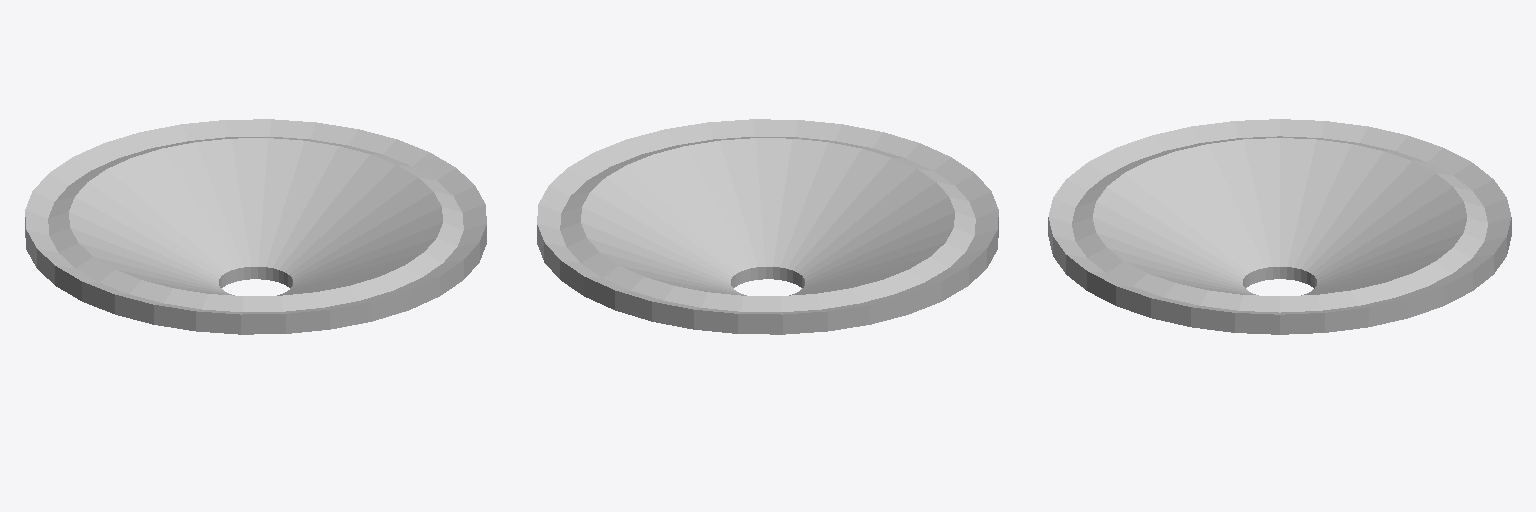
Rendered from jumpme.obj.
3 views of the same model, side by side, from view 1: azimuth 30°, elevation 25°; view 2: azimuth 150°, elevation 25°; view 3: azimuth 270°, elevation 25° (orthographic).
Bounding box in the file's own units: 48 × 8.95 × 48.